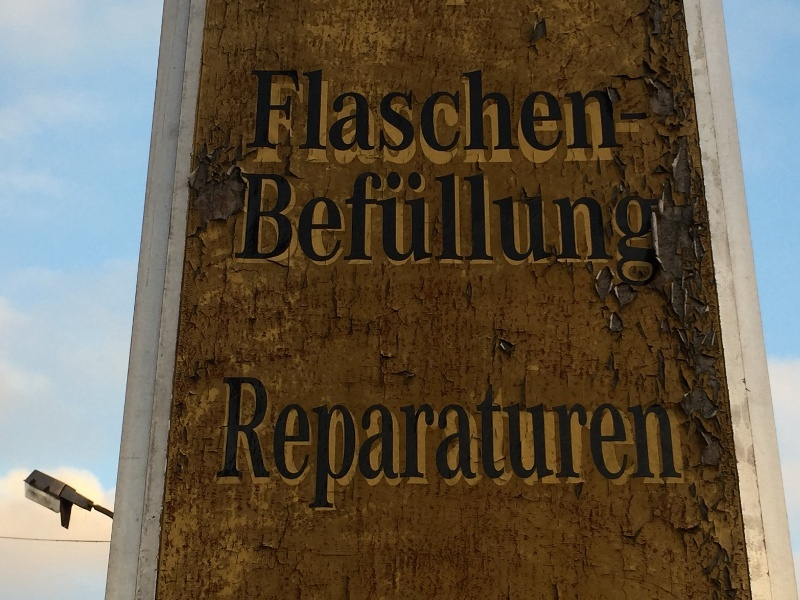text: (225, 379, 240, 511), (241, 379, 256, 511), (257, 379, 272, 511), (273, 379, 288, 511), (289, 379, 304, 511), (305, 379, 320, 511), (321, 379, 336, 511), (337, 379, 352, 511), (353, 379, 368, 511), (369, 379, 384, 511), (385, 379, 400, 511), (401, 379, 416, 511), (417, 379, 432, 511), (433, 379, 448, 511), (449, 379, 464, 511), (465, 379, 480, 511), (481, 379, 496, 511), (497, 379, 512, 511), (513, 379, 528, 511), (529, 379, 544, 511), (545, 379, 560, 511), (561, 379, 576, 511), (577, 379, 592, 511), (593, 379, 608, 511), (609, 379, 624, 511), (625, 379, 640, 511), (641, 379, 656, 511), (657, 379, 672, 511), (241, 167, 256, 296), (257, 167, 272, 296), (273, 167, 288, 296), (289, 167, 304, 296), (305, 167, 320, 296), (321, 167, 336, 296), (337, 167, 352, 296), (353, 167, 368, 296), (369, 167, 384, 296), (385, 167, 400, 296), (401, 167, 416, 296), (417, 167, 432, 296), (433, 167, 448, 296), (449, 167, 464, 296), (465, 167, 480, 296), (481, 167, 496, 296), (497, 167, 512, 296), (513, 167, 528, 296), (529, 167, 544, 296), (545, 167, 560, 296), (561, 167, 576, 296), (577, 167, 592, 296), (593, 167, 608, 296), (609, 167, 624, 296), (625, 167, 640, 296), (641, 167, 656, 296), (673, 379, 685, 511), (257, 70, 272, 153), (273, 70, 288, 153), (289, 70, 304, 153), (305, 70, 320, 153), (321, 70, 336, 153), (337, 70, 352, 153), (353, 70, 368, 153), (369, 70, 384, 153), (385, 70, 400, 153), (401, 70, 416, 153), (417, 70, 432, 153), (433, 70, 448, 153), (449, 70, 464, 153), (465, 70, 480, 153), (481, 70, 496, 153), (497, 70, 512, 153), (513, 70, 528, 153), (529, 70, 544, 153), (545, 70, 560, 153), (561, 70, 576, 153), (577, 70, 592, 153), (593, 70, 608, 153), (609, 70, 624, 153), (657, 167, 663, 296), (252, 70, 256, 153), (223, 379, 224, 511)
